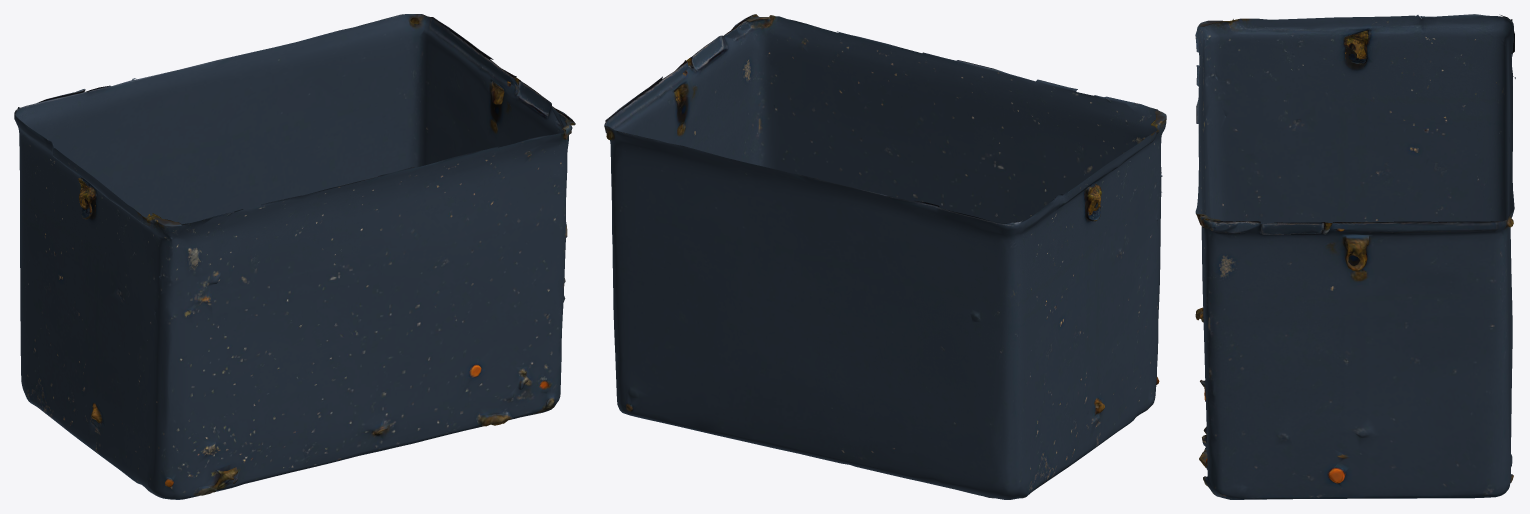
The model's file is ScannerBox_Box.fbx.
3 renders of one model, left to right at view 1: azimuth 30°, elevation 25°; view 2: azimuth 150°, elevation 25°; view 3: azimuth 270°, elevation 25°, orthographic.
Parts seen in each view (by area): view 1: ScannerBox_Box; view 2: ScannerBox_Box; view 3: ScannerBox_Box.
Part boxes in pixels (x1,y1,x2,y2): ScannerBox_Box: (14, 14, 575, 499); ScannerBox_Box: (604, 14, 1166, 499); ScannerBox_Box: (1195, 14, 1515, 499).
Size of the model in its own units: 98.26 by 63.73 by 63.72.
